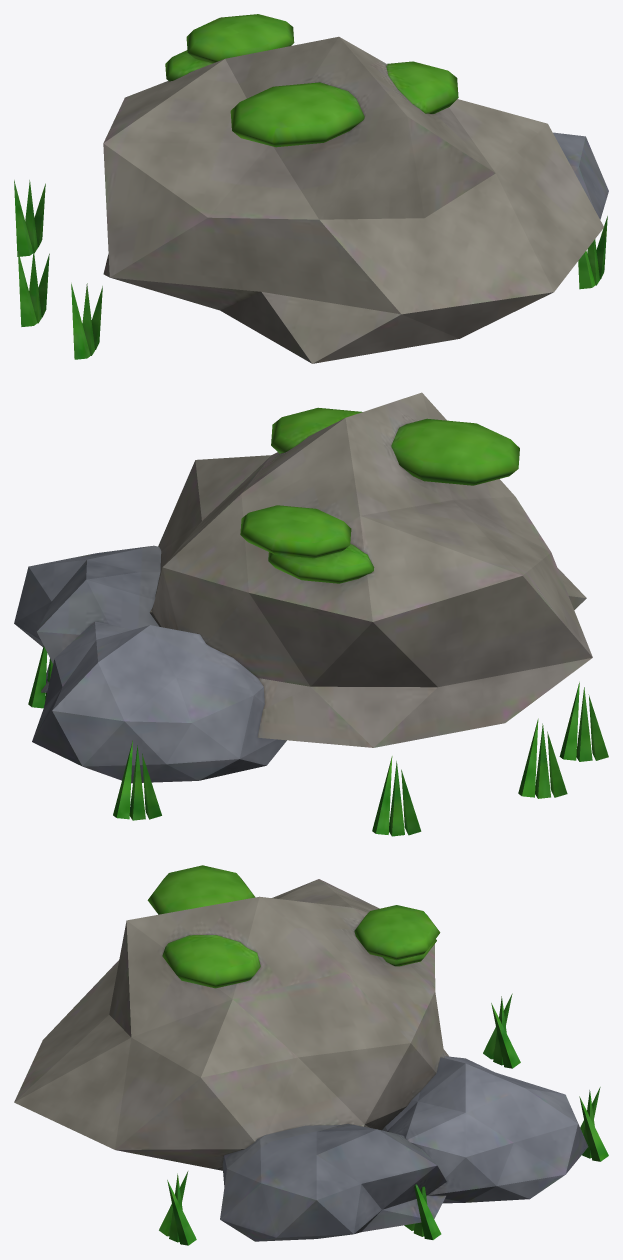
File: rock_obs2.glb
3 views of the same model, one above another, from view 1: azimuth 30°, elevation 25°; view 2: azimuth 150°, elevation 25°; view 3: azimuth 270°, elevation 25° (orthographic). The views are drawn at different scales.
Parts seen in each view (by area): view 1: rock_obs2; view 2: rock_obs2; view 3: rock_obs2.
Part boxes in pixels (bbox=[...]): rock_obs2: bbox=[14, 14, 608, 363]; rock_obs2: bbox=[14, 392, 608, 836]; rock_obs2: bbox=[14, 865, 608, 1245].
Size of the model in its own units: 0.8086 by 0.3757 by 0.8178.
1 material, 1 textured.
